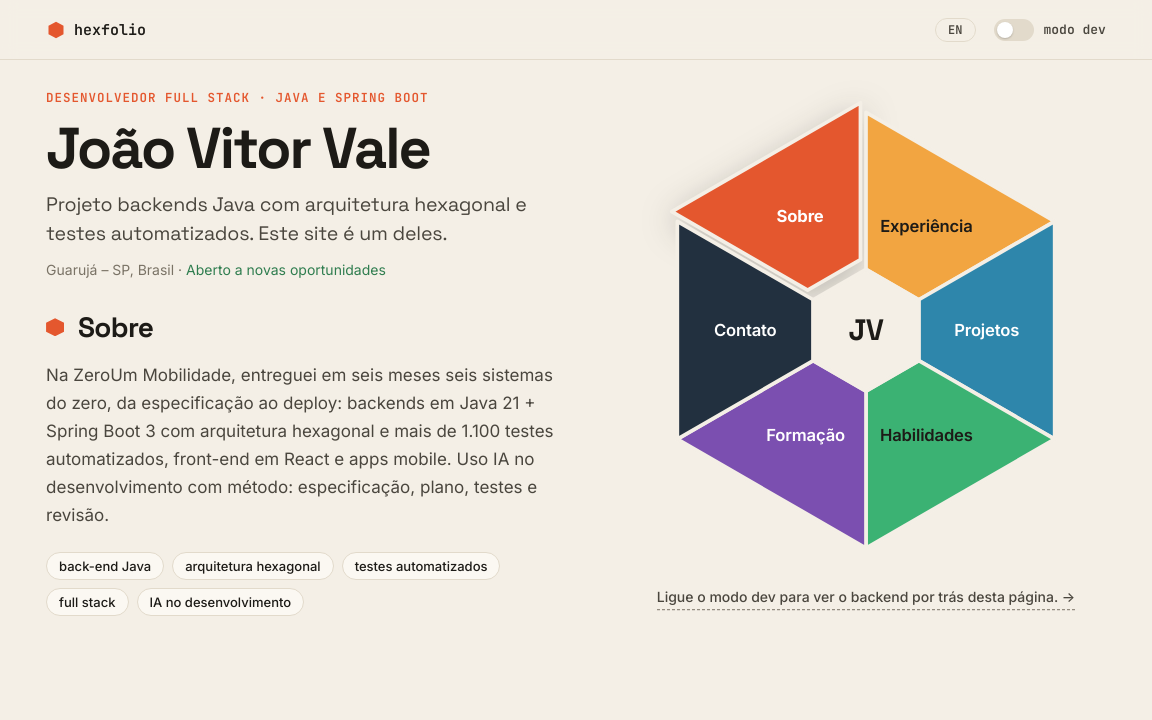
Test case: App › no modo dev, desenha as peças reais da arquitetura
Click the switch. click: [1050, 30]
box: [994, 18, 1106, 40]
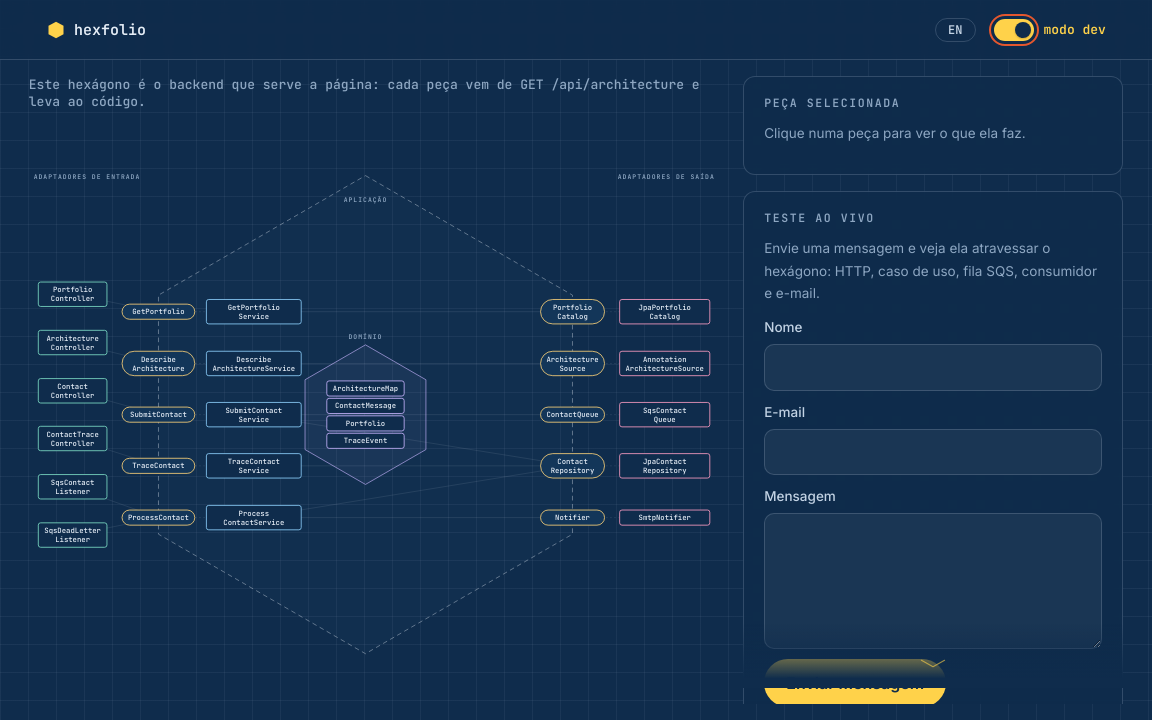
Check: the button "adaptador de entrada: SqsContactListener" is shown, box [51, 478, 94, 496]
Check: the heading "Teste ao vivo" is shown, box [764, 210, 875, 225]
